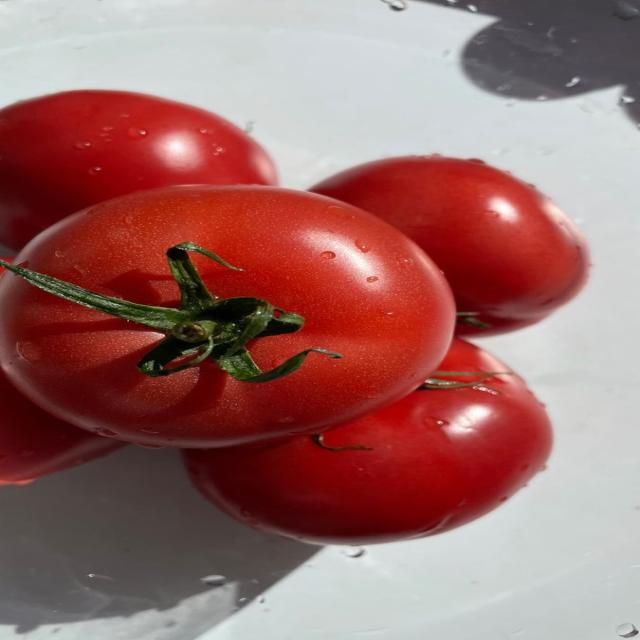tomato: (0, 186, 455, 447), (185, 375, 551, 544), (312, 156, 588, 334), (0, 91, 275, 249), (0, 373, 123, 485)
